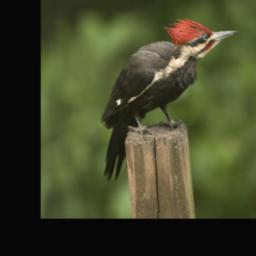Woodpecker: (89, 12, 240, 185)
